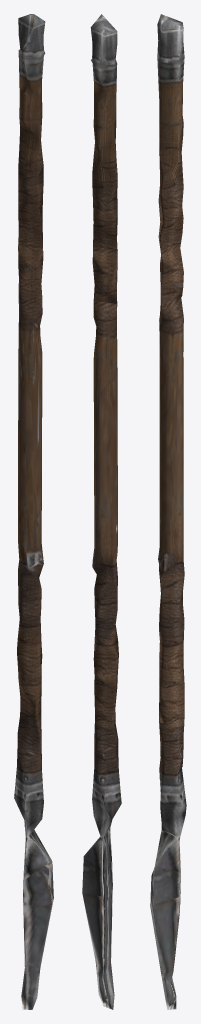
Rendered from speer_eisenzahn.glb.
The picture shows the model from 3 angles, left to right: view 1: azimuth 30°, elevation 25°; view 2: azimuth 210°, elevation 25°; view 3: azimuth 270°, elevation 25°; orthographic projection.
Size of the model in its own units: 0.0509 by 1.84 by 0.0607.
Materials: 1 (1 with a texture image).
